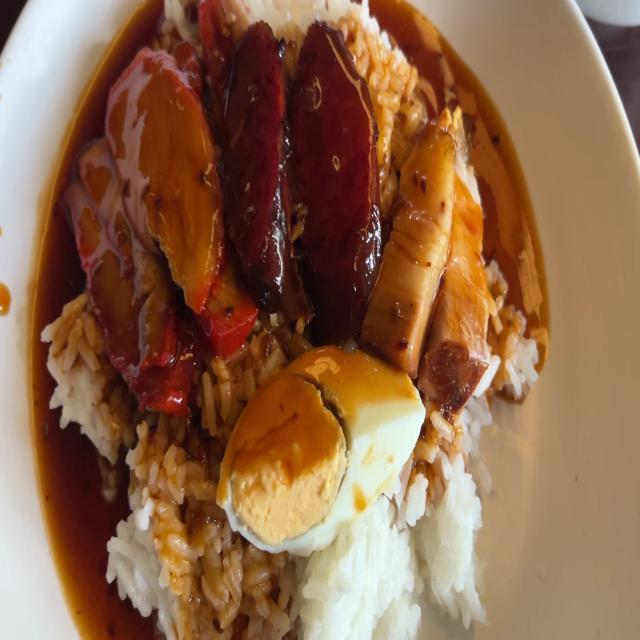red_pork_and_crispy_pork: (218, 352, 419, 536)
stir_fried_basil: (222, 14, 382, 314), (297, 27, 387, 314), (227, 26, 292, 286)
